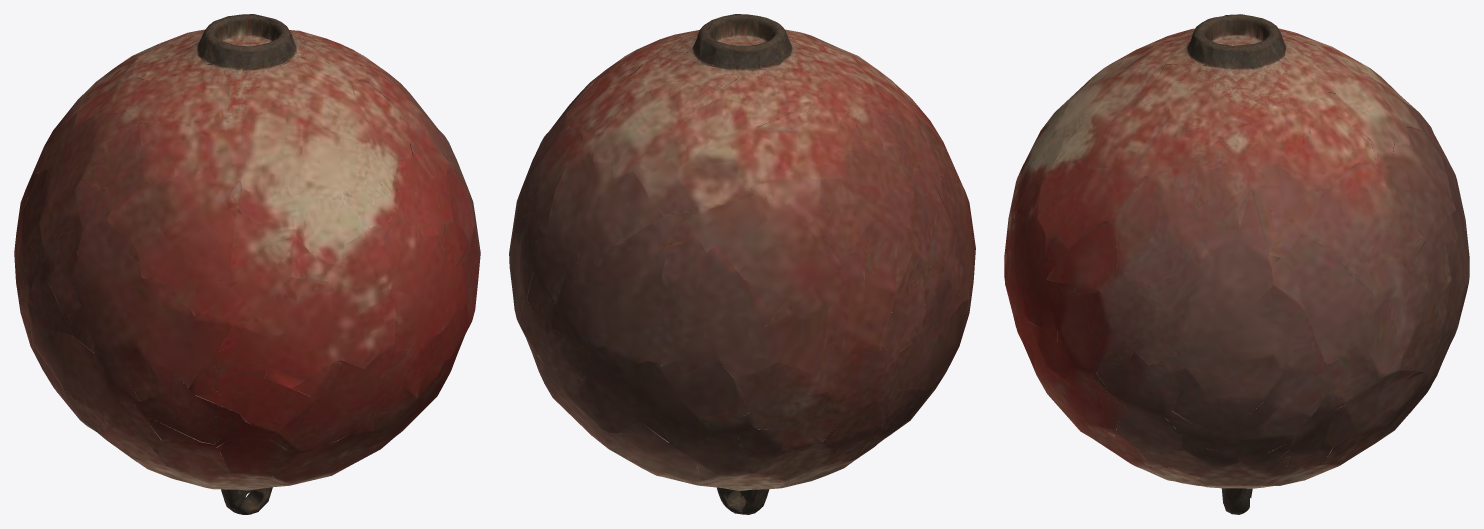
Rendered from bobber.glb.
3 renders of one model, left to right at view 1: azimuth 30°, elevation 25°; view 2: azimuth 150°, elevation 25°; view 3: azimuth 270°, elevation 25°, orthographic.
Parts seen in each view (by area): view 1: bobber; view 2: bobber; view 3: bobber.
Boxes of the visible parts, bbox=[...] form: bobber: bbox=[14, 14, 480, 514]; bobber: bbox=[509, 14, 975, 514]; bobber: bbox=[1004, 14, 1469, 514].
Bounding box in the file's own units: 0.0611 × 0.07 × 0.0614.
1 material, 1 textured.
